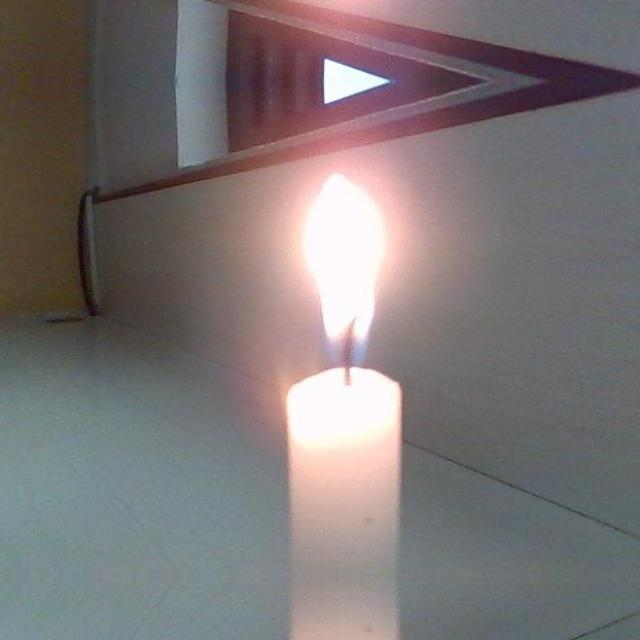smoke: (302, 170, 384, 365)
